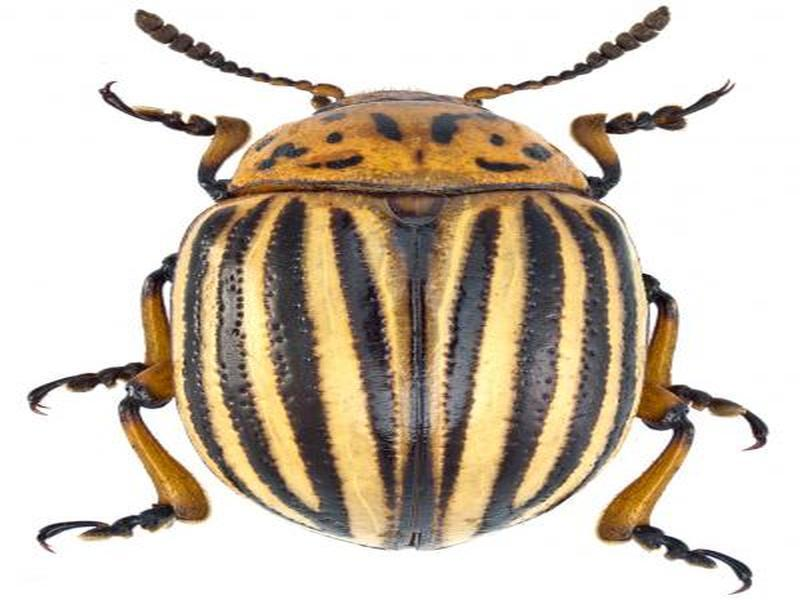hrosc: (107, 10, 753, 584)
